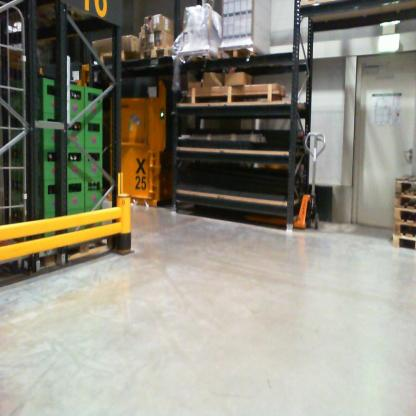pallet: (217, 46, 264, 60), (99, 50, 139, 65), (177, 50, 217, 62), (139, 47, 172, 61), (395, 175, 416, 196), (392, 234, 416, 251), (394, 220, 416, 237), (395, 195, 416, 212), (394, 208, 416, 224)
pallet_truck: (242, 132, 326, 231)
